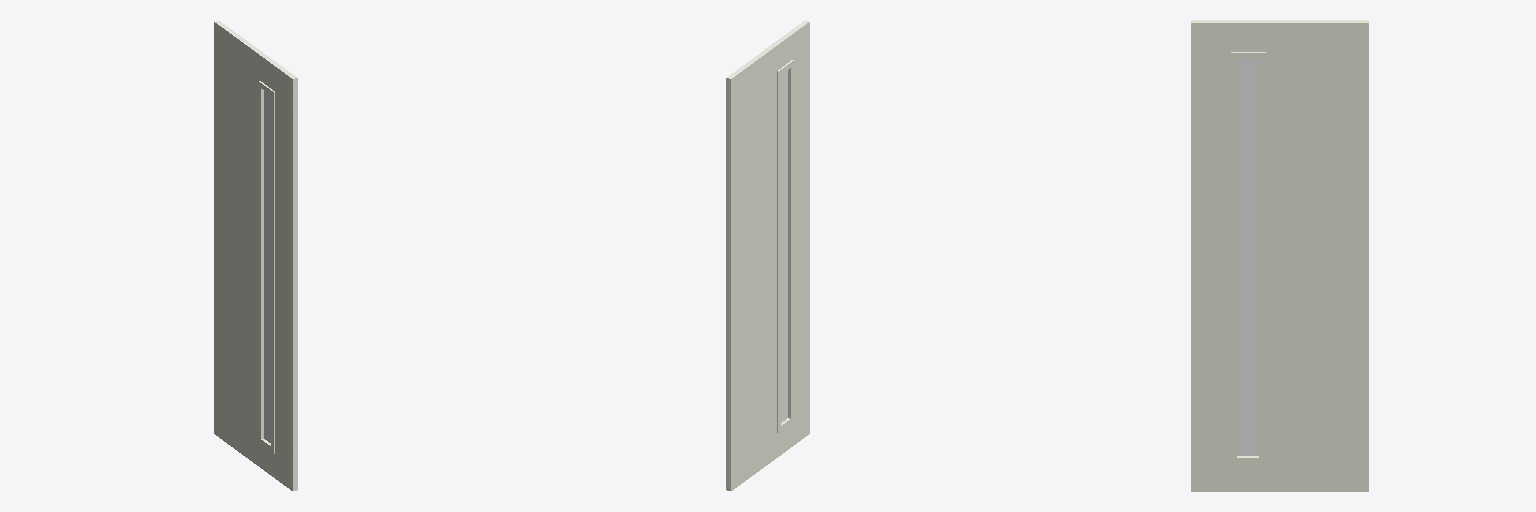
robot.urdf — room73b2-door-left:
<?xml version="1.0"?>
<robot name="room73b2-door-left"
       xmlns:xi="http://www.w3.org/2001/XInclude">
  <gazebo>
    <static>false</static>
  </gazebo>
  <link name="ROOM73B2-DOOR-LEFT-BODYSET2_link">
    <visual>
      <origin xyz="0 0 0" rpy="0 -0 0"/>
      <geometry>
        <mesh filename="model://room73b2-door-left/meshes/ROOM73B2-DOOR-LEFT-BODYSET2_link_mesh.dae" scale="1 1 1" />
      </geometry>
    </visual>
    <collision>
      <origin xyz="0 0 0" rpy="0 -0 0"/>
      <geometry>
        <mesh filename="model://room73b2-door-left/meshes/ROOM73B2-DOOR-LEFT-BODYSET2_link_mesh.dae" scale="1 1 1" />
      </geometry>
    </collision>
    <inertial>
      <mass value="0.001" />
      <origin xyz="0 0 0" rpy="0 -0 0"/>
      <inertia ixx="1e-03" ixy="0" ixz="0" iyy="1e-03" iyz="0" izz="1e-03"/>
    </inertial>
  </link>
  <gazebo reference="ROOM73B2-DOOR-LEFT-BODYSET2_link">
    <mu1>0.9</mu1>
    <mu2>0.9</mu2>
  </gazebo>
  <link name="ROOM73B2-DOOR-LEFT-BODYSET3_link">
    <visual>
      <origin xyz="-0.015 0.39 0" rpy="0 -0 0"/>
      <geometry>
        <mesh filename="model://room73b2-door-left/meshes/ROOM73B2-DOOR-LEFT-BODYSET3_link_mesh.dae" scale="1 1 1" />
      </geometry>
    </visual>
    <collision>
      <origin xyz="-0.015 0.39 0" rpy="0 -0 0"/>
      <geometry>
        <mesh filename="model://room73b2-door-left/meshes/ROOM73B2-DOOR-LEFT-BODYSET3_link_mesh.dae" scale="1 1 1" />
      </geometry>
    </collision>
    <inertial>
      <mass value="0.001" />
      <origin xyz="0 0 0" rpy="0 -0 0"/>
      <inertia ixx="1e-03" ixy="0" ixz="0" iyy="1e-03" iyz="0" izz="1e-03"/>
    </inertial>
  </link>
  <gazebo reference="ROOM73B2-DOOR-LEFT-BODYSET3_link">
    <mu1>0.9</mu1>
    <mu2>0.9</mu2>
  </gazebo>
  <joint name="DOOR" type="revolute">
    <parent link="ROOM73B2-DOOR-LEFT-BODYSET2_link"/>
    <child  link="ROOM73B2-DOOR-LEFT-BODYSET3_link"/>
    <origin xyz="-0.015 0.39 0" rpy="0 -0 0 "/>
    <axis   xyz="0 0 1"/>
    <limit lower="0" upper="1.5708" effort="100" velocity="0.5" />
    <dynamics damping="0.2" friction="0" />
  </joint>
  <transmission type="pr2_mechanism_model/SimpleTransmission" name="DOOR_trans" >
    <actuator name="DOOR_motor" />
    <joint name="DOOR" />
    <mechanicalReduction>1</mechanicalReduction>
  </transmission>
  <gazebo reference="DOOR">
    <cfmDamping>0.4</cfmDamping>
  </gazebo>
</robot>

--- What the picture shows (computed from the rendered views, not written in the file) ---
3 views of the same robot in one strip: view 1: azimuth 30°, elevation 25°; view 2: azimuth 150°, elevation 25°; view 3: azimuth 270°, elevation 25° (orthographic).
Robot: room73b2-door-left — 2 links, 1 joints (1 revolute); root link ROOM73B2-DOOR-LEFT-BODYSET2_link; default pose: all joints at 0.
Links seen in each view (by area): view 1: ROOM73B2-DOOR-LEFT-BODYSET3_link; view 2: ROOM73B2-DOOR-LEFT-BODYSET3_link; view 3: ROOM73B2-DOOR-LEFT-BODYSET3_link.
Boxes of the visible links, box(x1,y1,x2,y2) form: ROOM73B2-DOOR-LEFT-BODYSET3_link: box(214, 21, 297, 490); ROOM73B2-DOOR-LEFT-BODYSET3_link: box(726, 21, 809, 490); ROOM73B2-DOOR-LEFT-BODYSET3_link: box(1191, 20, 1368, 491).
Bounding box of the posed robot: 0.05 × 0.81 × 2.35 m (x, y, z).
2 mesh visuals loaded from 2 distinct referenced files (2 Collada DAE).
